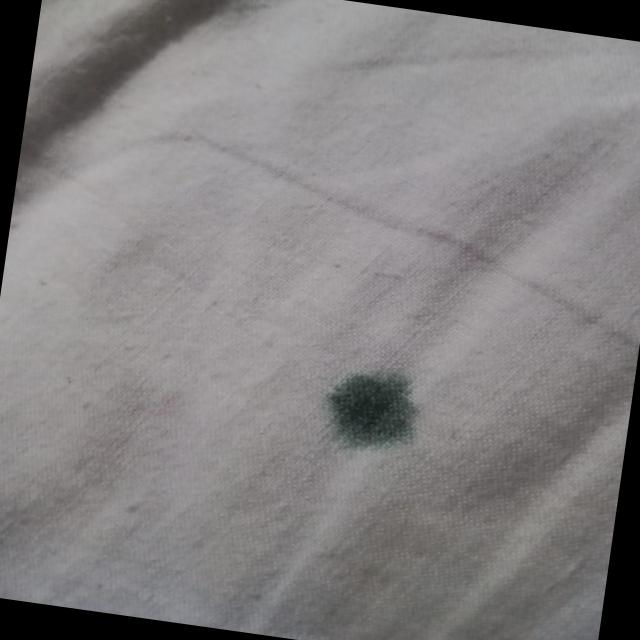stain: (312, 360, 434, 460)
